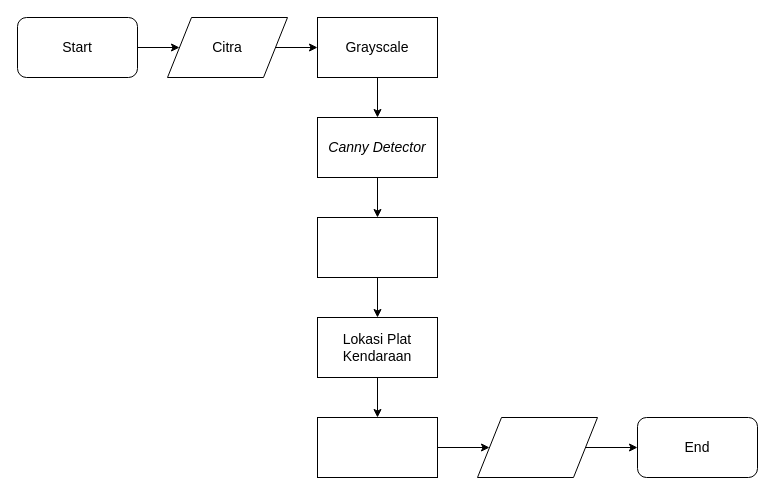
The diagram is 775 pixels wide and 495 high, and some of its shapes have lost their labels. The shapes that lost their labels are listed below. From the top down, each one's box as (x1, y1, x2, y2) in pixels, then its label:
(316, 216, 438, 278): Hough Transform
(316, 416, 438, 478): Cropping
(476, 416, 598, 478): Citra Plat
